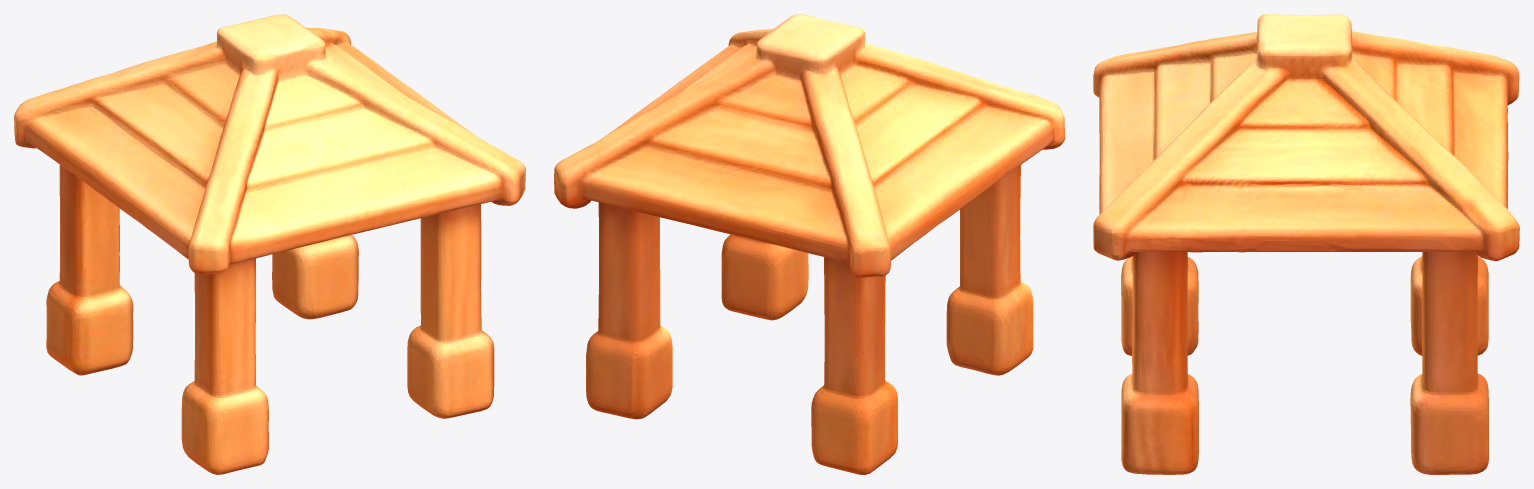
File: pavilion.glb
3 views of the same model, side by side, from view 1: azimuth 30°, elevation 25°; view 2: azimuth 150°, elevation 25°; view 3: azimuth 270°, elevation 25° (orthographic). The views are drawn at different scales.
Visible parts, largest first — view 1: tripo_mesh_cafcc838-6b7c-45ab-82f7-036f70288962; view 2: tripo_mesh_cafcc838-6b7c-45ab-82f7-036f70288962; view 3: tripo_mesh_cafcc838-6b7c-45ab-82f7-036f70288962.
Part boxes in pixels (left/top/right/bottom): tripo_mesh_cafcc838-6b7c-45ab-82f7-036f70288962: left=14, top=14, right=525, bottom=474; tripo_mesh_cafcc838-6b7c-45ab-82f7-036f70288962: left=554, top=14, right=1064, bottom=474; tripo_mesh_cafcc838-6b7c-45ab-82f7-036f70288962: left=1093, top=14, right=1519, bottom=474.
Bounding box in the file's own units: 0.9941 × 1 × 1.03.
Materials: 1 (1 with a texture image).
